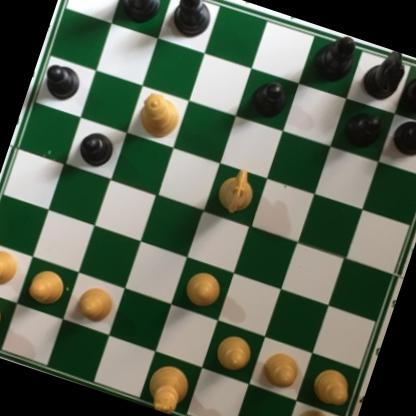black-bishop: (307, 28, 362, 90), (166, 0, 220, 45)
black-king: (108, 0, 172, 31)
black-knight: (357, 45, 411, 108)
black-pawn: (337, 105, 385, 154), (38, 60, 86, 106), (245, 77, 291, 124), (74, 127, 118, 172), (387, 111, 416, 162)
black-rook: (395, 58, 416, 124)
white-king: (139, 359, 195, 416)
white-knight: (211, 161, 263, 219)
white-pawn: (302, 362, 356, 413), (255, 344, 305, 395), (21, 262, 71, 313), (70, 280, 120, 328), (208, 330, 257, 377), (178, 267, 225, 312), (0, 240, 25, 290)
white-queen: (132, 86, 186, 143)
white-rook: (283, 400, 347, 416), (0, 289, 9, 350)
